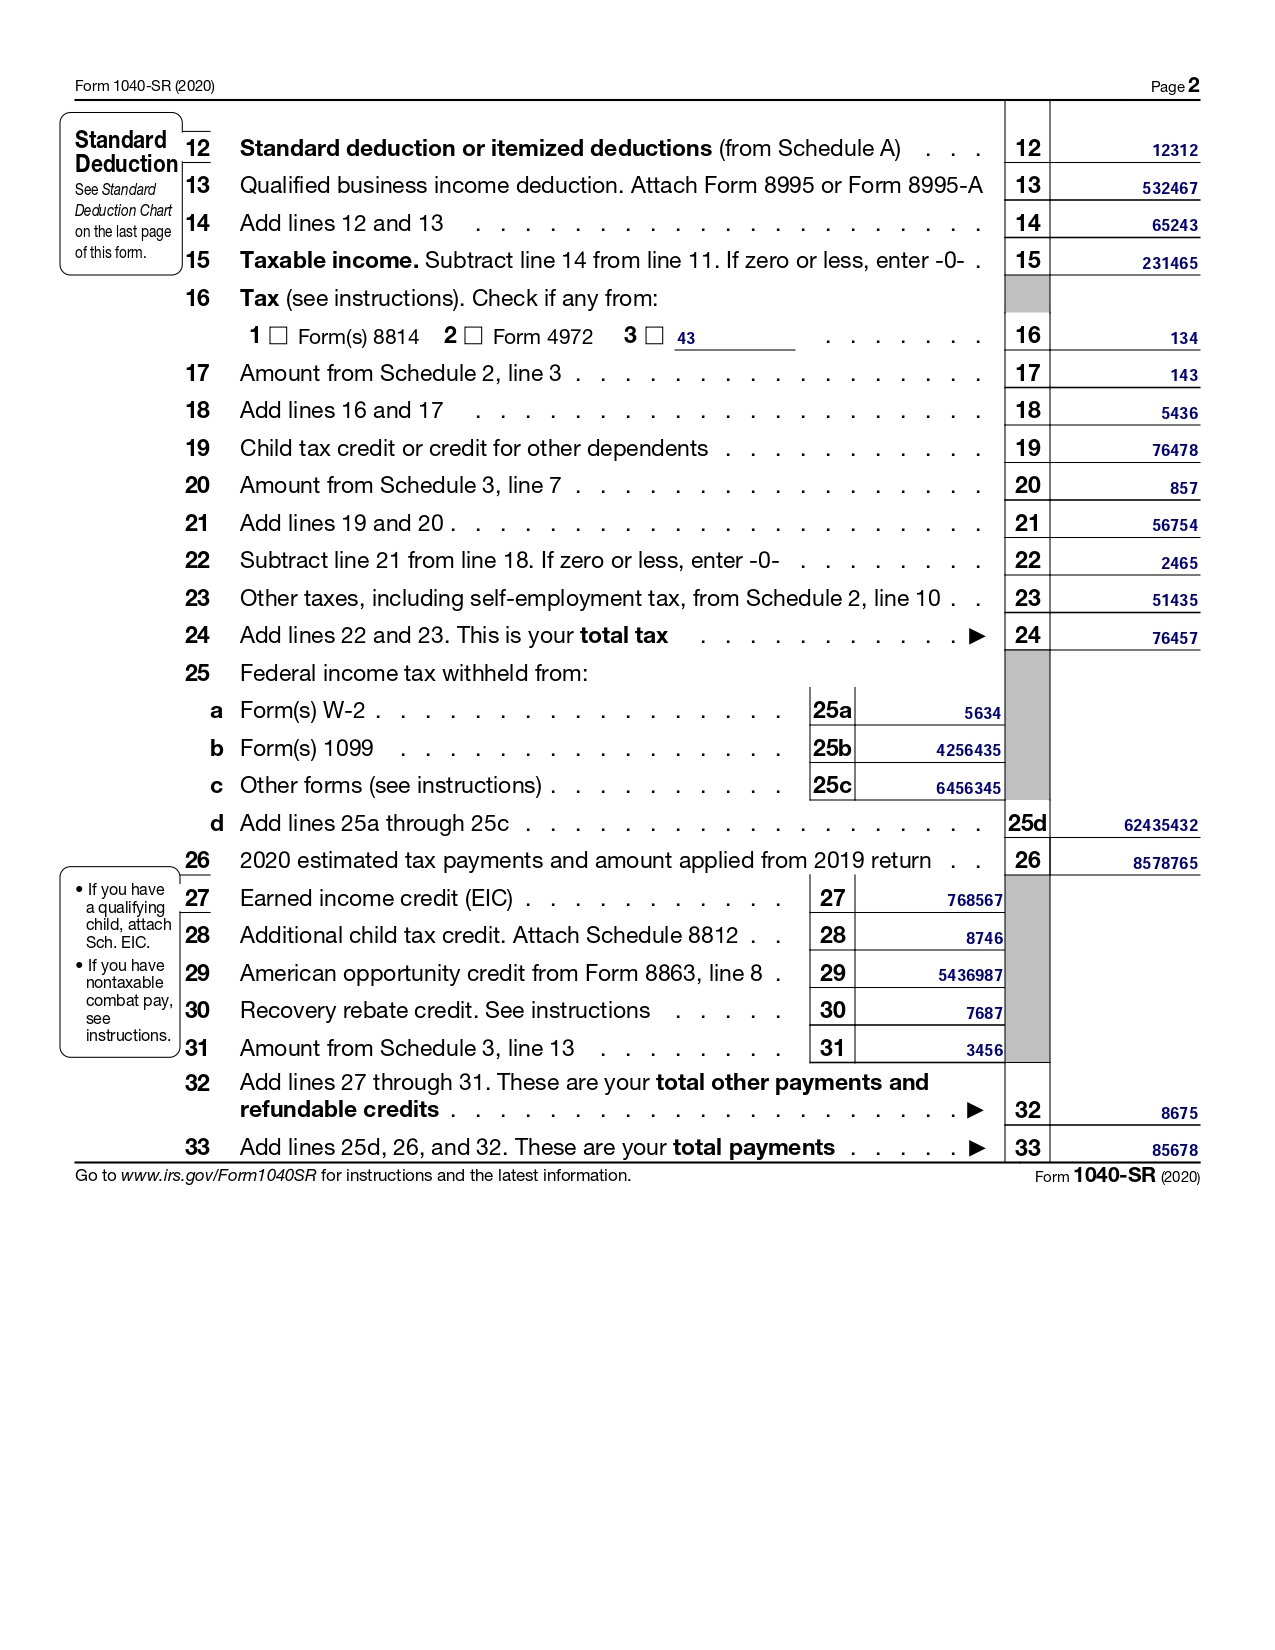table: (182, 98, 1220, 1165)
